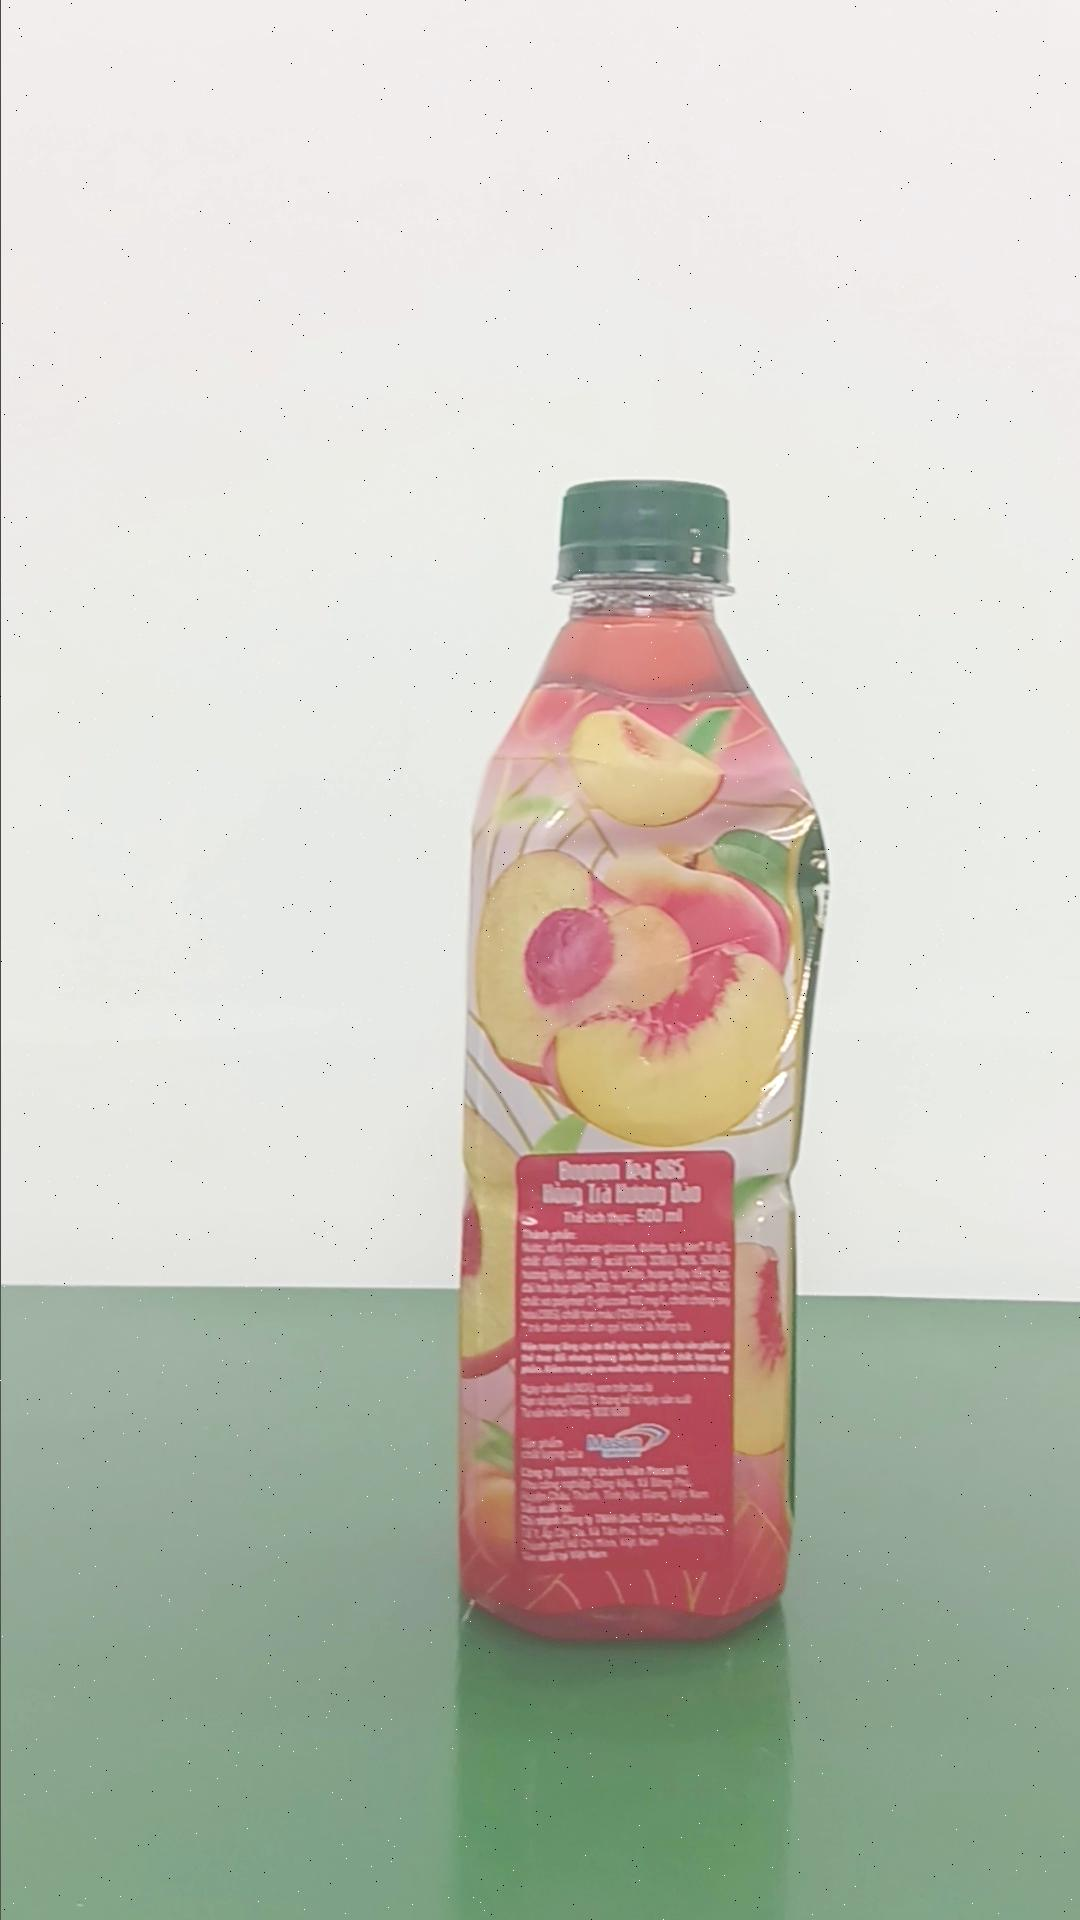loi meo sp: (455, 476, 831, 1642)
